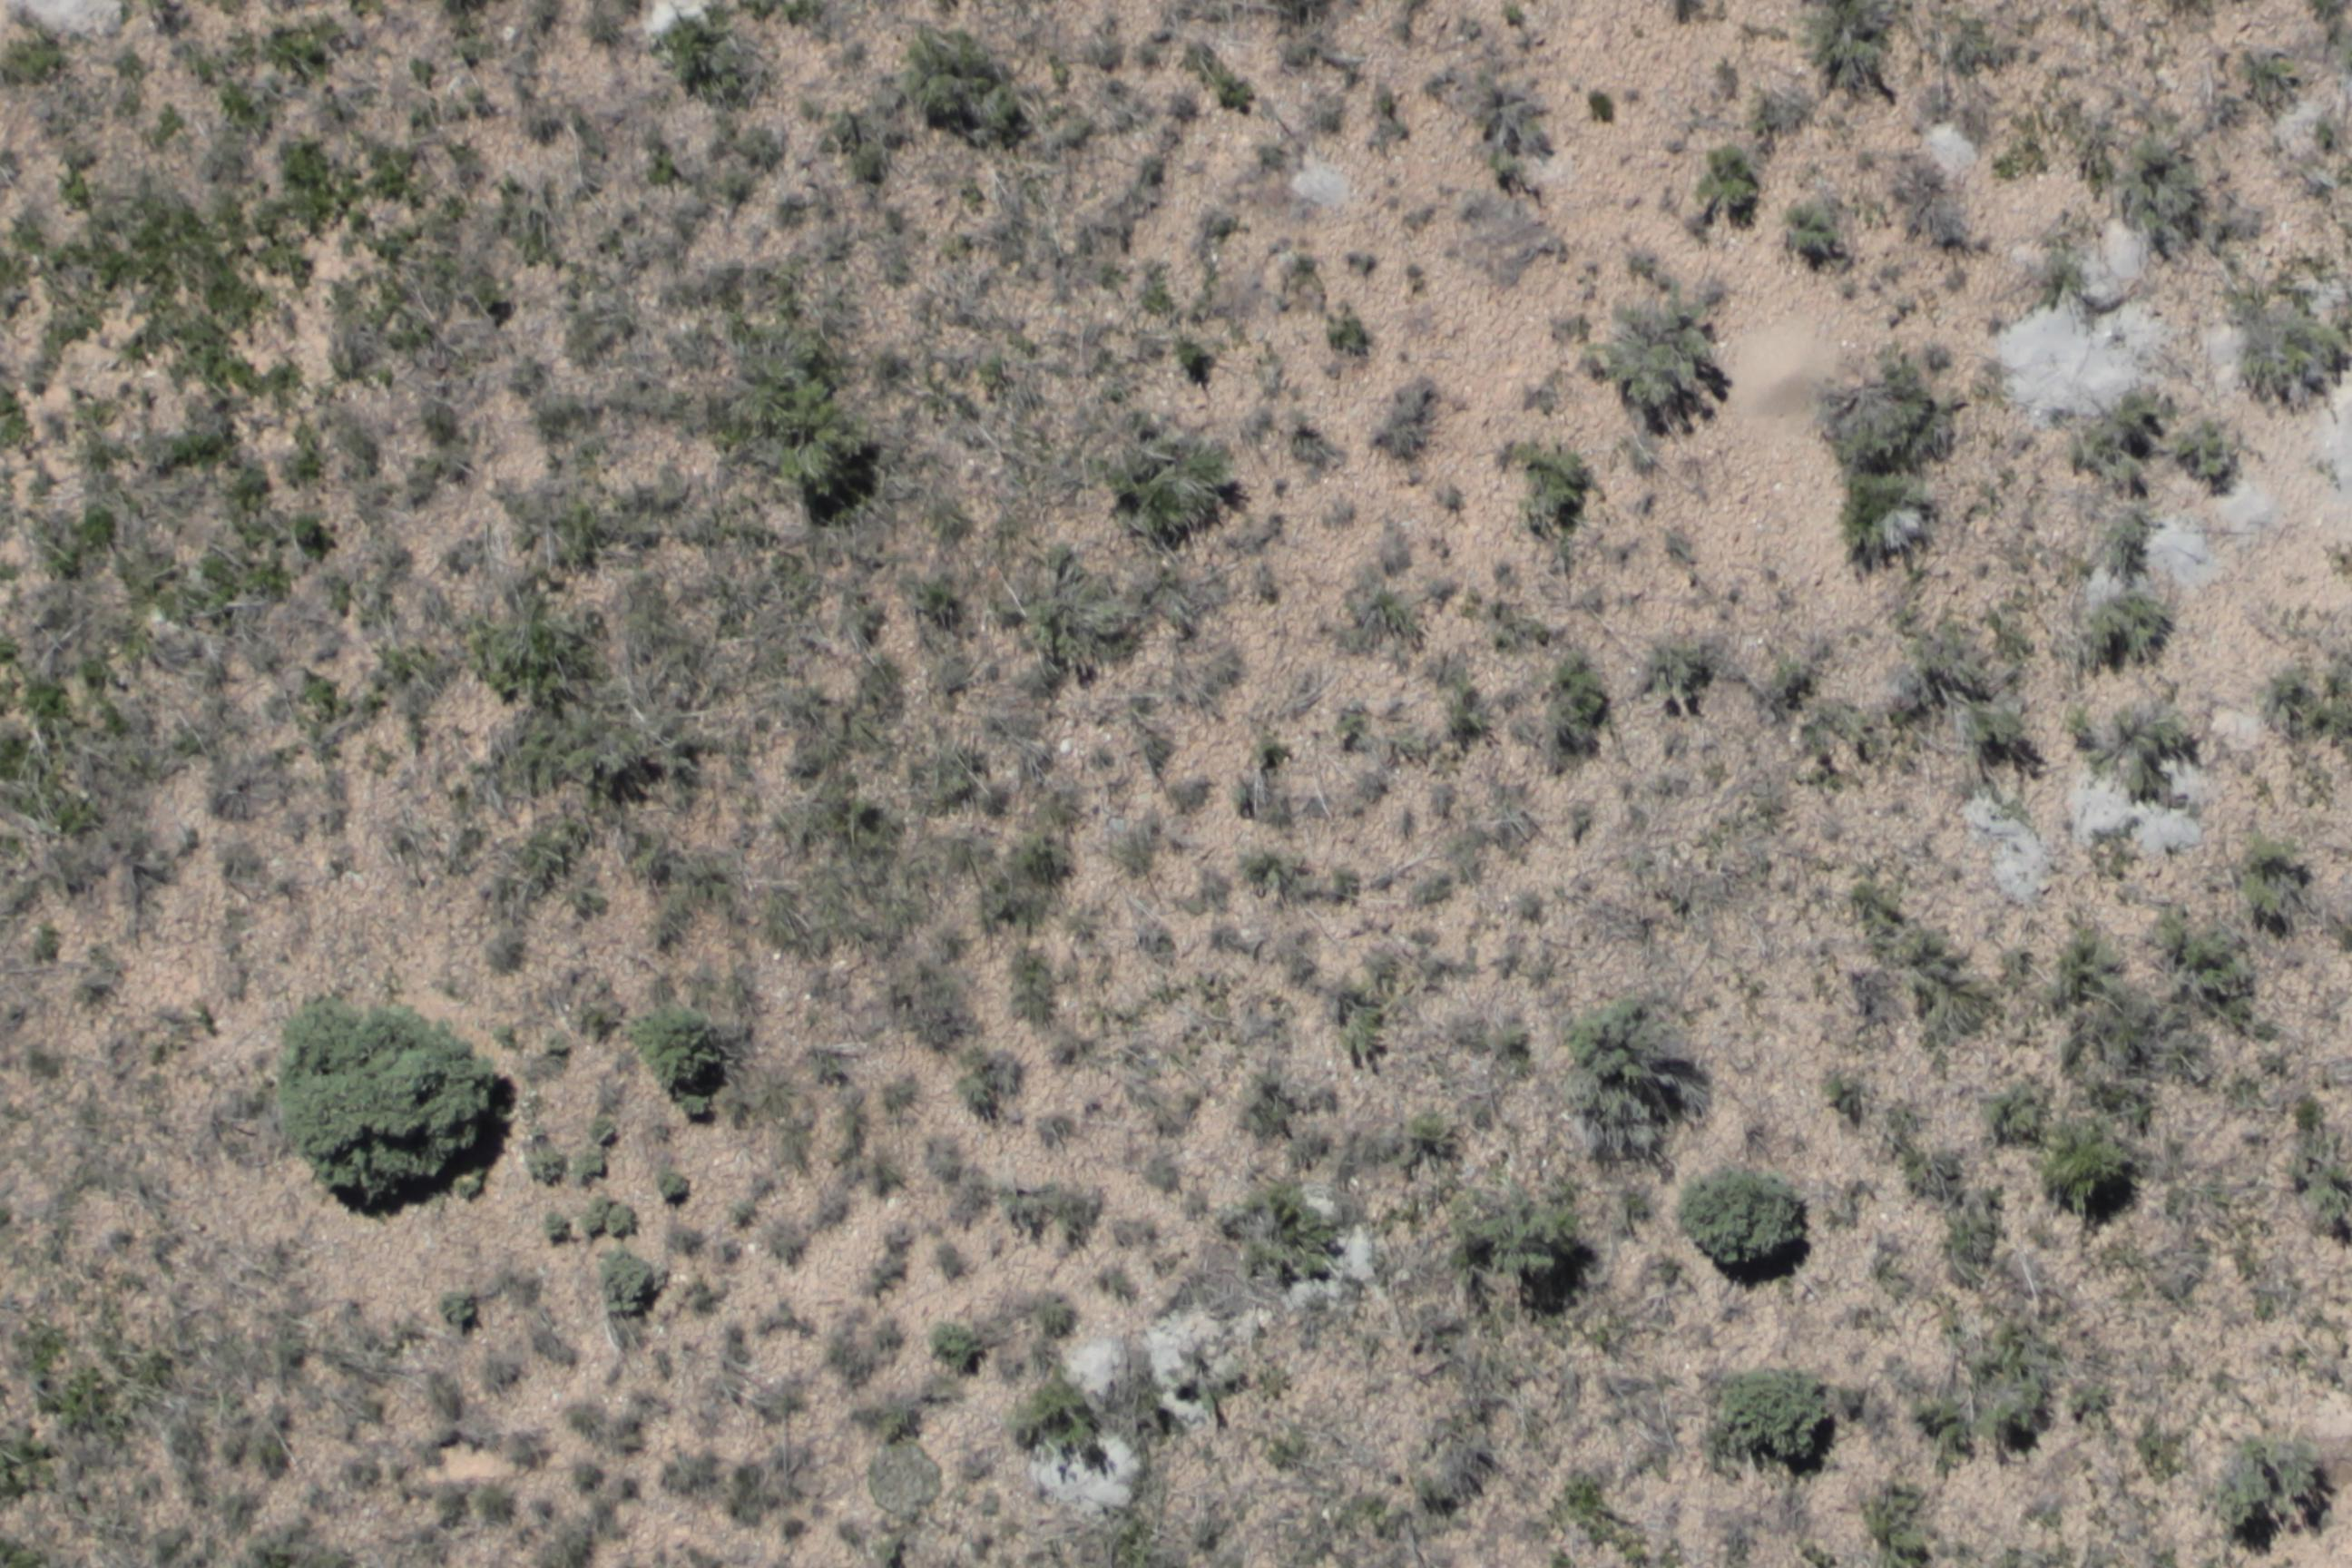burrow: (1705, 306, 1852, 445)
